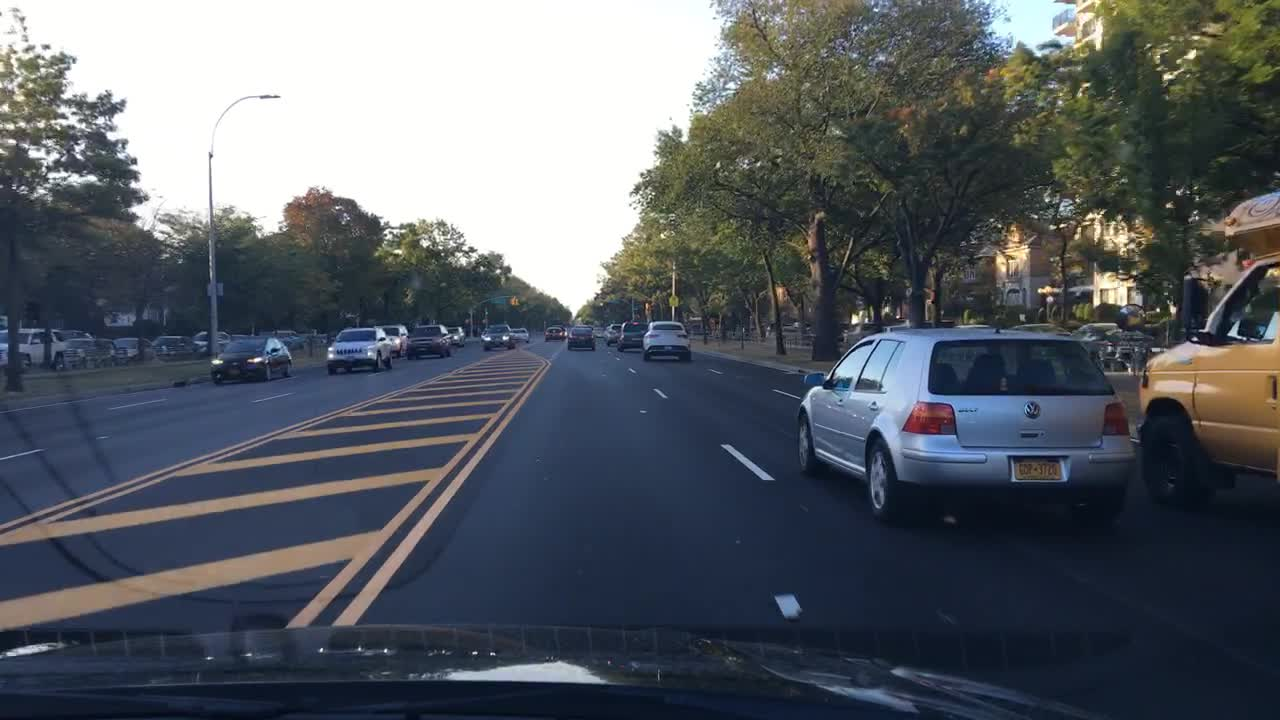bike: (489, 297, 505, 304)
car: (793, 324, 1136, 529), (209, 334, 293, 384), (324, 325, 395, 374), (0, 325, 69, 374), (1078, 320, 1145, 367), (641, 319, 692, 363), (63, 338, 122, 373), (403, 321, 452, 360), (109, 334, 156, 364), (150, 333, 195, 360), (377, 323, 410, 358), (614, 319, 646, 352), (842, 320, 881, 344), (566, 324, 596, 354), (482, 324, 515, 351), (192, 329, 230, 352), (57, 328, 97, 344), (1011, 321, 1062, 333), (262, 328, 289, 350), (218, 333, 247, 351), (604, 320, 622, 346), (446, 323, 465, 347), (837, 320, 856, 340), (542, 324, 564, 341), (950, 321, 990, 330), (511, 325, 530, 343), (882, 323, 918, 332), (287, 329, 306, 346), (302, 331, 322, 347), (793, 319, 811, 334), (779, 323, 796, 338), (763, 325, 780, 338), (748, 324, 763, 338), (553, 323, 566, 339), (477, 325, 490, 341), (315, 332, 331, 343), (738, 323, 751, 336), (573, 322, 593, 330), (601, 324, 611, 339), (591, 325, 604, 336), (694, 324, 705, 336), (705, 325, 716, 336), (685, 323, 696, 333)
traffic light: (513, 296, 520, 308), (509, 296, 515, 305)
traffic sign: (202, 281, 221, 297), (666, 293, 679, 306)
truck: (1131, 193, 1278, 508)
